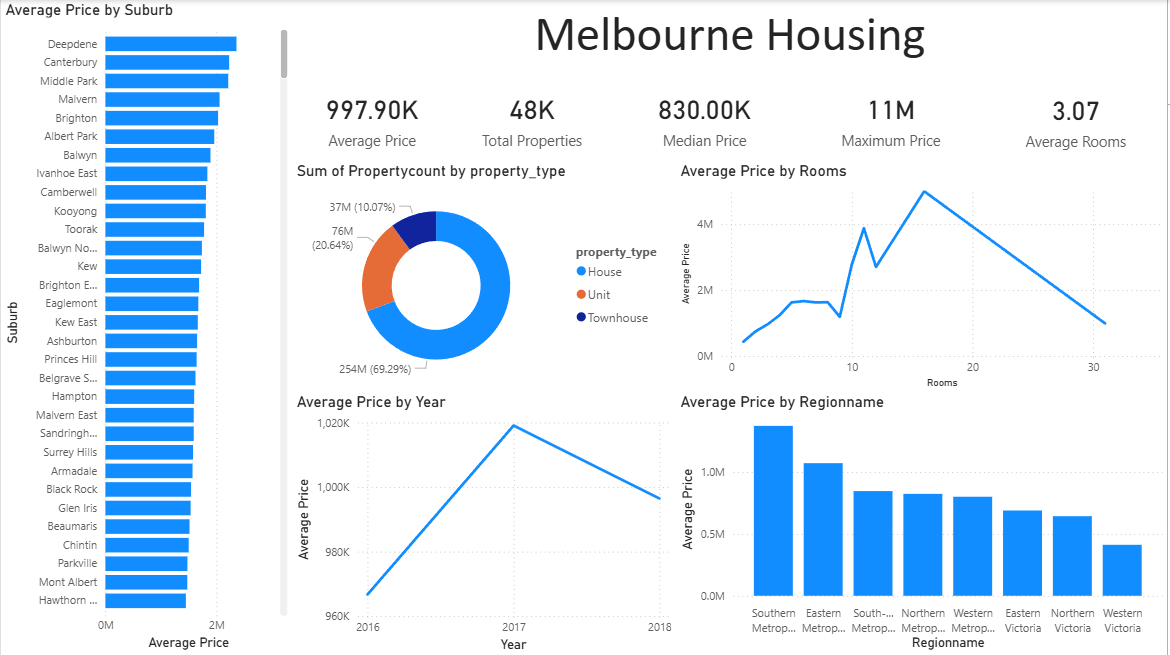

Layout of this report page (visuals, bound fields, positions):
{"tool":"powerbi","page":{"name":"page 1","canvas":[1280,720],"ordinal":0},"visuals":[{"type":"lineChart","fields":{"Y":["melbourne_house_prices_cleaned.Average Price"],"Category":["melbourne_house_prices_cleaned.Rooms"]},"box":[741,177,539.3,253.9],"z":1},{"type":"lineChart","fields":{"Category":["melbourne_house_prices_cleaned.Date.Variation.Date Hierarchy.Year","melbourne_house_prices_cleaned.Date.Variation.Date Hierarchy.Quarter","melbourne_house_prices_cleaned.Date.Variation.Date Hierarchy.Month","melbourne_house_prices_cleaned.Date.Variation.Date Hierarchy.Day"],"Y":["melbourne_house_prices_cleaned.Average Price"]},"box":[319.7,430.9,421.3,289.5],"z":2},{"type":"clusteredColumnChart","fields":{"Category":["melbourne_house_prices_cleaned.Regionname"],"Y":["melbourne_house_prices_cleaned.Average Price"]},"box":[741,430.9,539.3,288.2],"z":3},{"type":"barChart","fields":{"Category":["melbourne_house_prices_cleaned.Suburb"],"Y":["melbourne_house_prices_cleaned.Average Price"]},"box":[0,0,319.7,719],"z":4},{"type":"donutChart","fields":{"Category":["melbourne_house_prices_cleaned.property_type"],"Y":["Sum(melbourne_house_prices_cleaned.Propertycount)"]},"box":[319.7,177,421.3,253.9],"z":5},{"type":"card","fields":{"Values":["melbourne_house_prices_cleaned.Average Price"]},"box":[319.7,82.3,175.6,94.7],"z":6},{"type":"card","fields":{"Values":["melbourne_house_prices_cleaned.Total Properties"]},"box":[495.4,82.3,175.6,94.7],"z":7},{"type":"card","fields":{"Values":["melbourne_house_prices_cleaned.Median Price"]},"box":[671,82.3,203.1,94.7],"z":8},{"type":"card","fields":{"Values":["melbourne_house_prices_cleaned.Maximum Price"]},"box":[874.1,82.3,205.8,94.7],"z":9},{"type":"card","fields":{"Values":["melbourne_house_prices_cleaned.Average Rooms"]},"box":[1079.9,83.7,200.3,94.7],"z":10},{"type":"textbox","box":[319.7,0,960.6,82.3],"z":11}]}

Visuals, with their boxes in screenshot pixels (x1, y1, x2, y2), scaled from the page's 1280x720 canvas onto the 1170x655 screenshot:
lineChart - melbourne_house_prices_cleaned.Average Price x melbourne_house_prices_cleaned.Rooms: (677, 161, 1169, 392)
lineChart - melbourne_house_prices_cleaned.Date.Variation.Date Hierarchy.Year x melbourne_house_prices_cleaned.Date.Variation.Date Hierarchy.Quarter: (292, 392, 677, 654)
clusteredColumnChart - melbourne_house_prices_cleaned.Regionname x melbourne_house_prices_cleaned.Average Price: (677, 392, 1169, 654)
barChart - melbourne_house_prices_cleaned.Suburb x melbourne_house_prices_cleaned.Average Price: (0, 0, 292, 654)
donutChart - melbourne_house_prices_cleaned.property_type x Sum(melbourne_house_prices_cleaned.Propertycount): (292, 161, 677, 392)
card - melbourne_house_prices_cleaned.Average Price: (292, 75, 453, 161)
card - melbourne_house_prices_cleaned.Total Properties: (453, 75, 613, 161)
card - melbourne_house_prices_cleaned.Median Price: (613, 75, 799, 161)
card - melbourne_house_prices_cleaned.Maximum Price: (799, 75, 987, 161)
card - melbourne_house_prices_cleaned.Average Rooms: (987, 76, 1169, 162)
textbox: (292, 0, 1169, 75)
